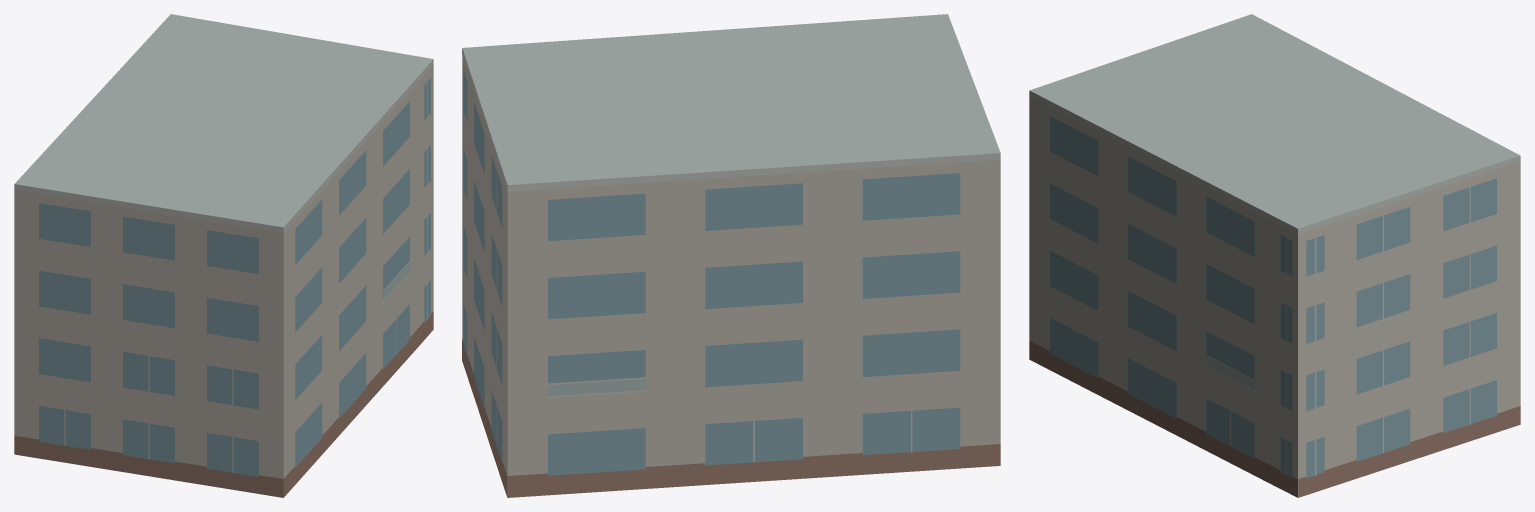
Rendered from survey-upis-32932332.glb.
The picture shows the model from 3 angles, left to right: view 1: azimuth 30°, elevation 25°; view 2: azimuth 150°, elevation 25°; view 3: azimuth 270°, elevation 25°; orthographic projection. The views are drawn at different scales.
Visible parts, largest first — view 1: survey-upis-32932332.tmp; view 2: survey-upis-32932332.tmp; view 3: survey-upis-32932332.tmp.
Boxes of the visible parts, x1,y1,x2,y2 form: survey-upis-32932332.tmp: [14, 14, 433, 497]; survey-upis-32932332.tmp: [462, 14, 1000, 497]; survey-upis-32932332.tmp: [1029, 14, 1520, 497].
Bounding box in the file's own units: 19.52 × 11.4 × 18.87.
